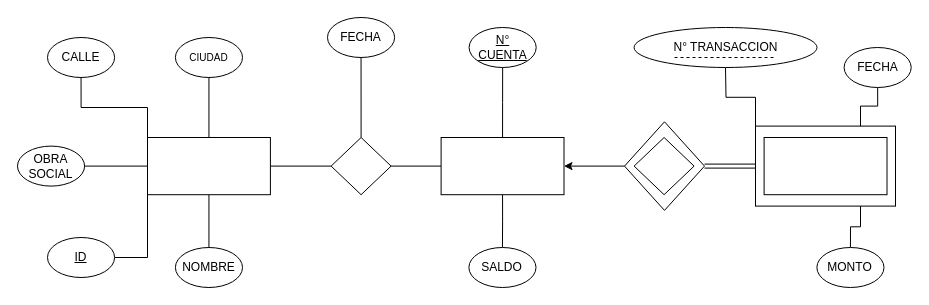
Image size: 929x305. Some labels were removed from this diagram. Each missing label, with the centre of its shape:
"CLIENTE" goes at [208,165].
"CUENTA" goes at [502,165].
"LOG" goes at [663,165].
"TRANSACCIÓN" goes at [825,165].
"USA" goes at [360,165].
